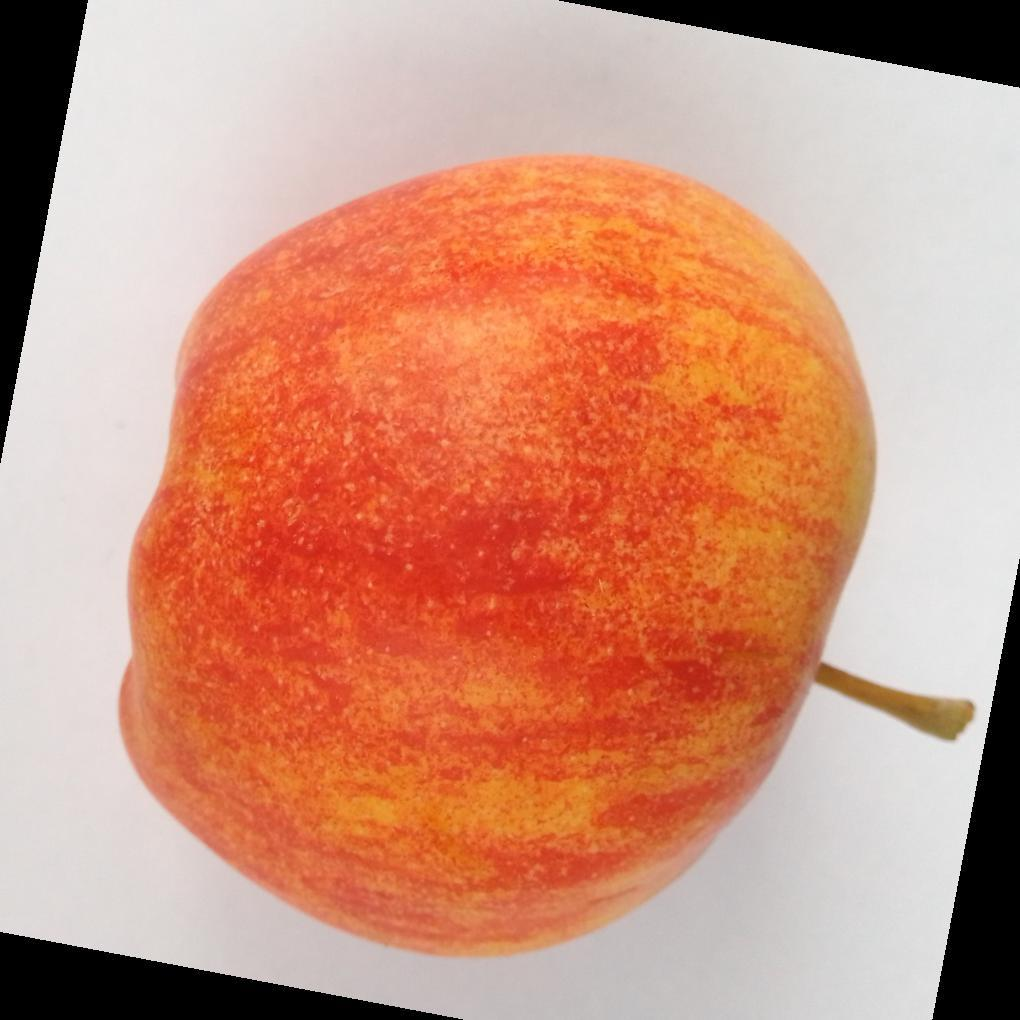FreshGuava: (115, 154, 878, 962)
